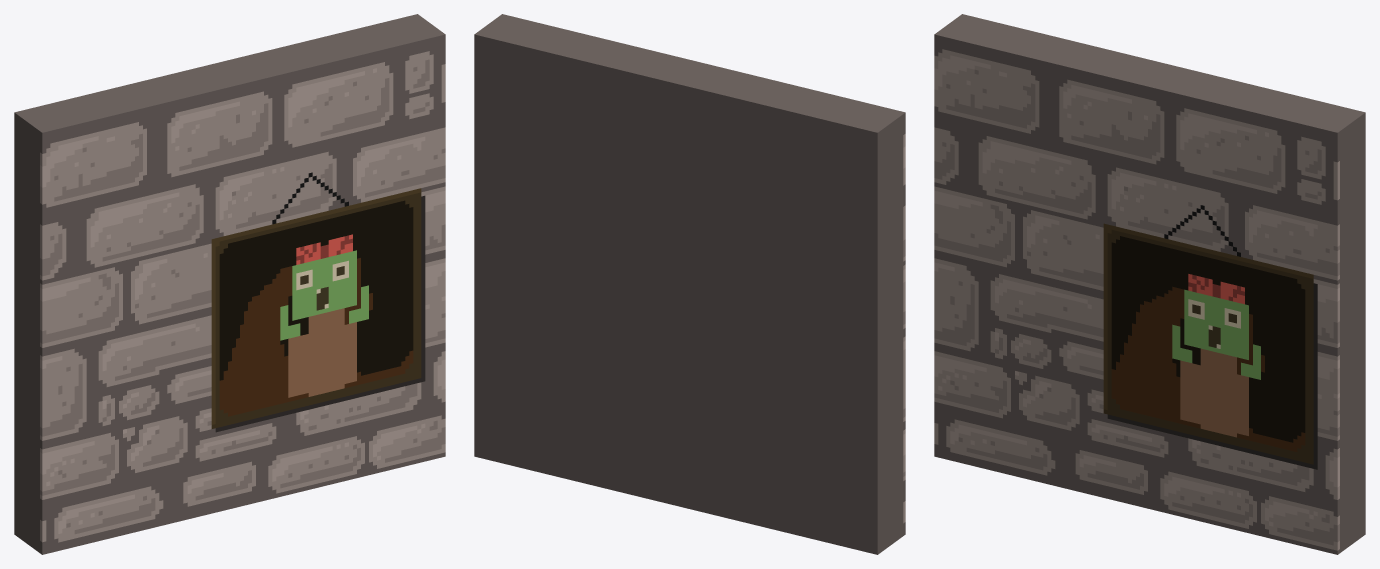
The model's file is GGJ walls 1.3 1.obj.
The picture shows the model from 3 angles, left to right: view 1: azimuth 30°, elevation 25°; view 2: azimuth 150°, elevation 25°; view 3: azimuth 330°, elevation 25°; orthographic projection.
Bounding box in the file's own units: 10 × 10 × 1.2.
Materials: 1 (1 with a texture image).
